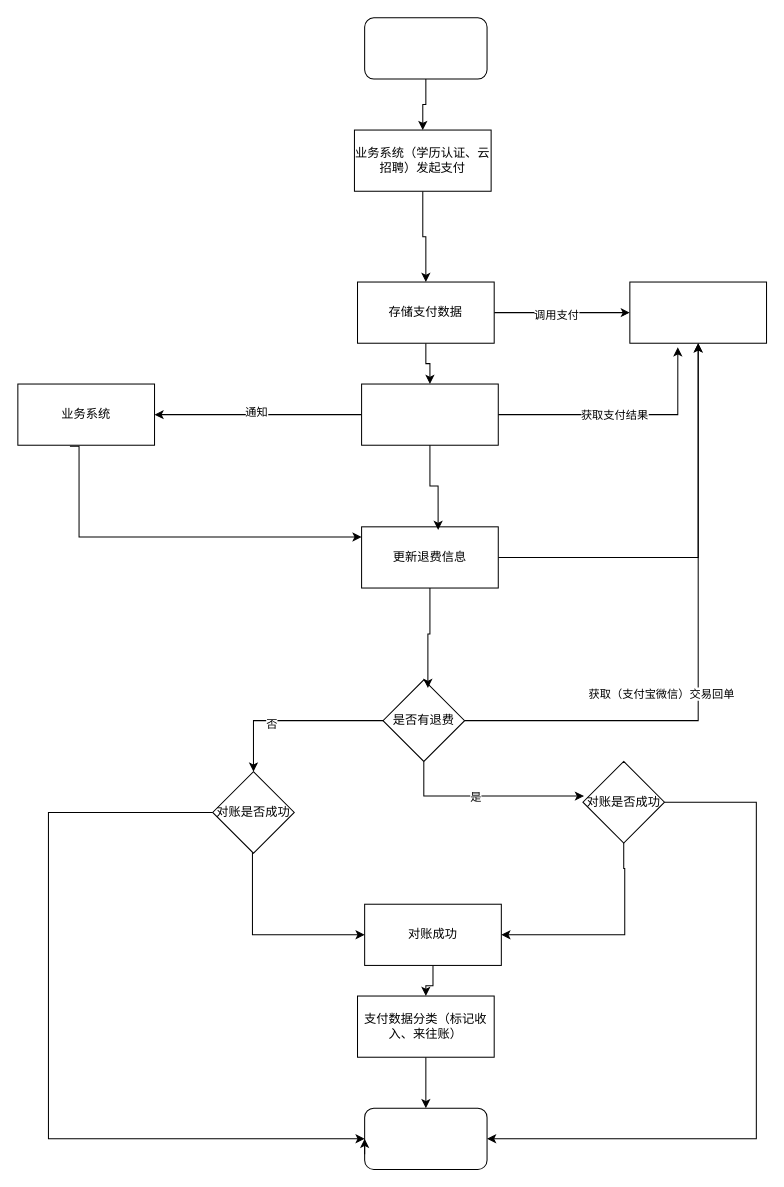
The diagram is 784 pixels wide and 1187 high, and some of its shapes have lost their labels. Each missing label, with the centre of its shape:
业务流程开始: point 425,48
更新支付状态: point 429,414
结束: point 425,1138
银联支付: point 698,312
